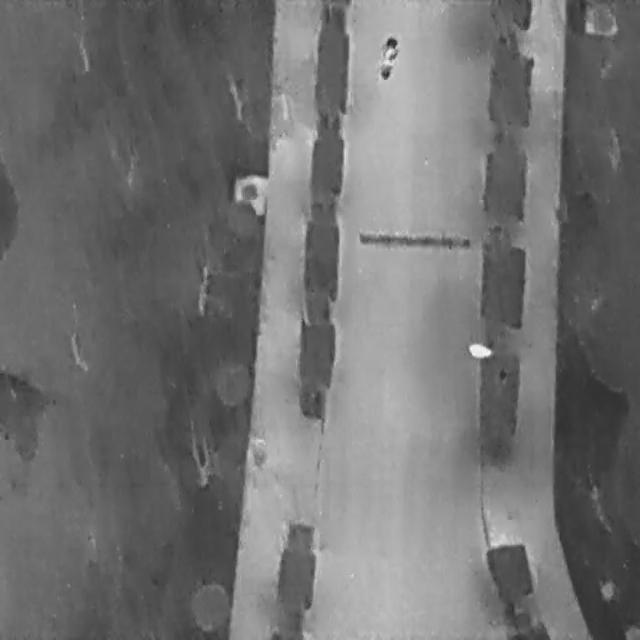Bicycle: (376, 32, 399, 80)
